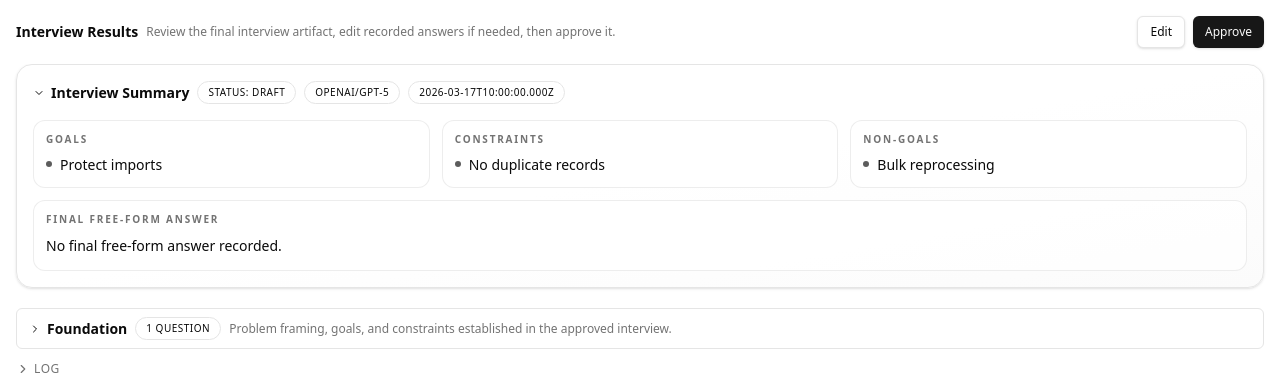
Interview approval UI › lets the interview summary collapse and reopen in approval view
The width and height of the screenshot is (1280, 390).
Expected: the text "Final Free-Form Answer" is shown, [46, 212, 219, 226]
Click the button "Interview Summary": (120, 92) [17, 65, 1263, 120]
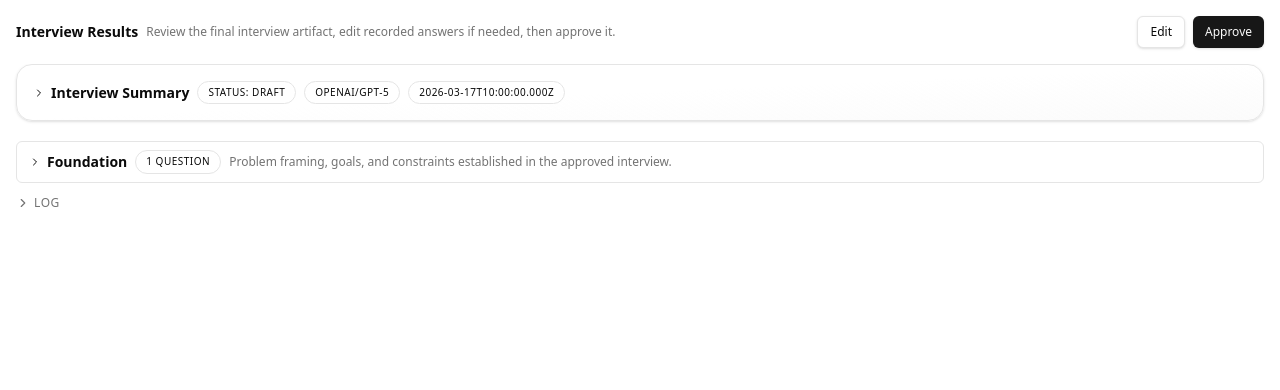
Expected: the text "Final Free-Form Answer" is gone
Click the button "Interview Summary": (120, 92) [17, 65, 1263, 120]
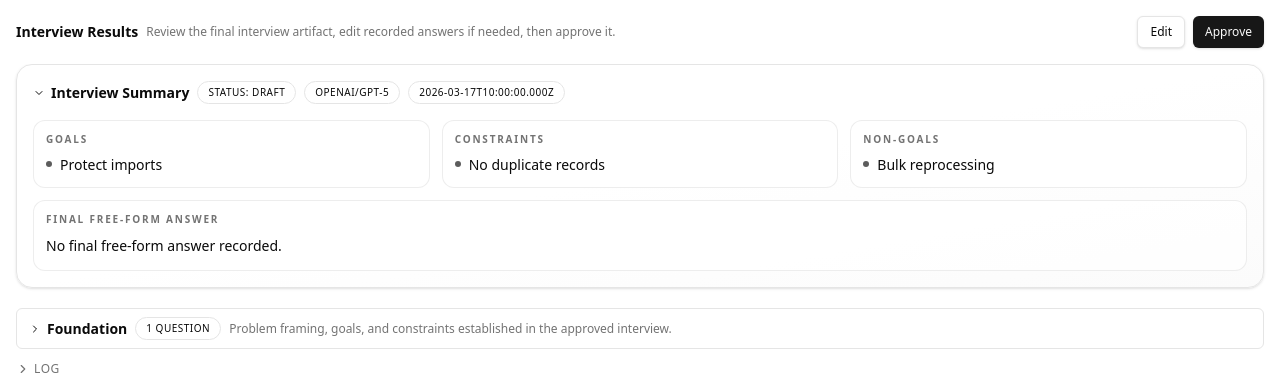
Expected: the text "Final Free-Form Answer" is shown, [46, 212, 219, 226]
